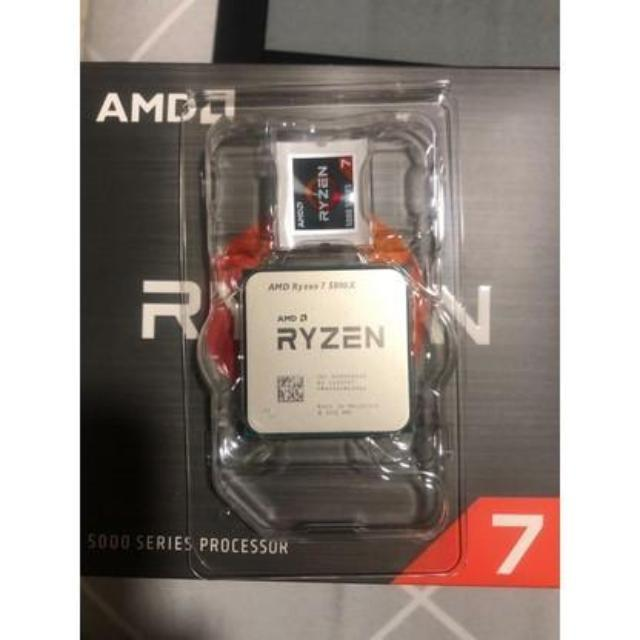CPU: (242, 271, 406, 431)
